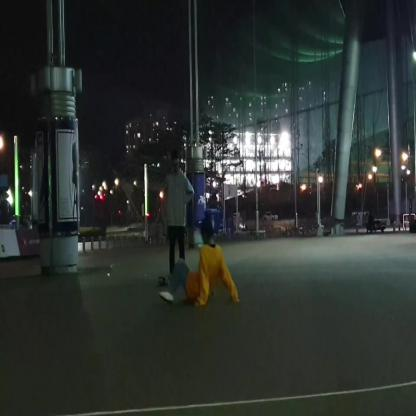Fall_Down: (161, 216, 240, 310)
